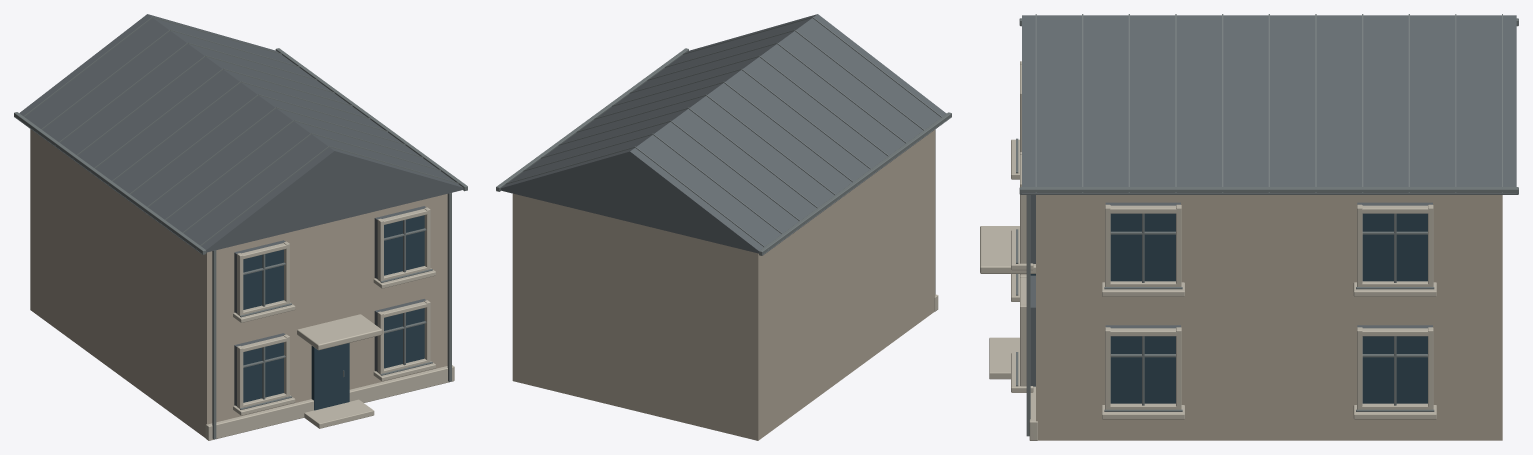
The model's file is detached-house-naturalistic.glb.
3 views of the same model, side by side, from view 1: azimuth 30°, elevation 25°; view 2: azimuth 150°, elevation 25°; view 3: azimuth 270°, elevation 25° (orthographic). The views are drawn at different scales.
Visible parts, largest first — view 1: roof, wall, stone, frame, glass; view 2: wall, roof, frame; view 3: roof, wall, glass, stone, frame.
Part boxes in pixels (x1=…): roof: x1=14, y1=14, x2=463, y2=406; wall: x1=30, y1=129, x2=447, y2=437; stone: x1=205, y1=207, x2=454, y2=440; frame: x1=14, y1=17, x2=467, y2=439; glass: x1=243, y1=215, x2=424, y2=410; wall: x1=512, y1=130, x2=935, y2=440; roof: x1=500, y1=14, x2=950, y2=254; frame: x1=496, y1=17, x2=951, y2=293; roof: x1=1022, y1=15, x2=1516, y2=386; wall: x1=1036, y1=195, x2=1502, y2=440; glass: x1=1030, y1=213, x2=1427, y2=403; stone: x1=980, y1=61, x2=1436, y2=440; frame: x1=1016, y1=14, x2=1518, y2=436.
Bounding box in the file's own units: 8.89 × 8.23 × 11.55.
